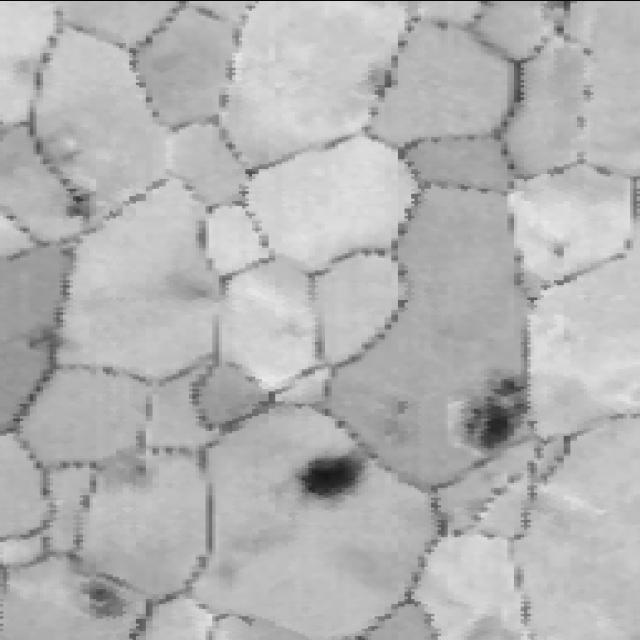good_void: (465, 369, 530, 450), (74, 568, 135, 624), (300, 451, 370, 495), (348, 56, 411, 100), (15, 307, 61, 361), (51, 180, 93, 221), (532, 231, 575, 269), (119, 463, 158, 480), (389, 393, 415, 417)
